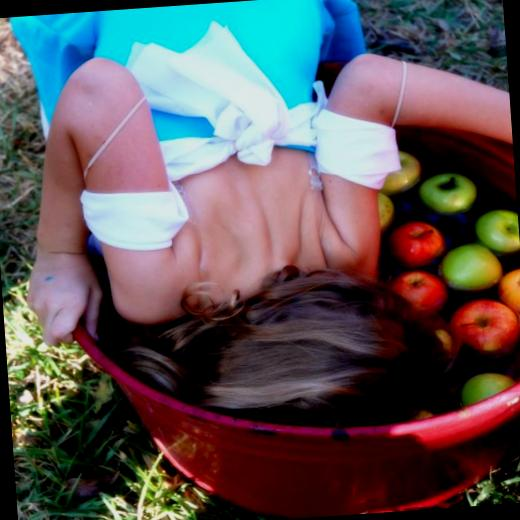Apple: (375, 141, 520, 423), (453, 304, 520, 360)
